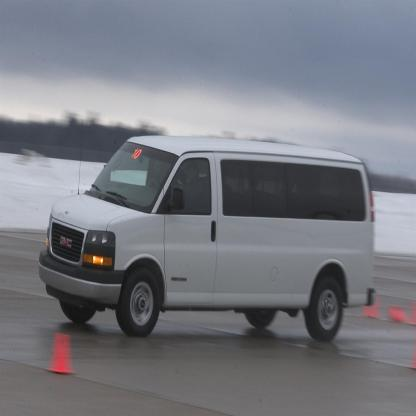Vehicle: (36, 130, 379, 346)
